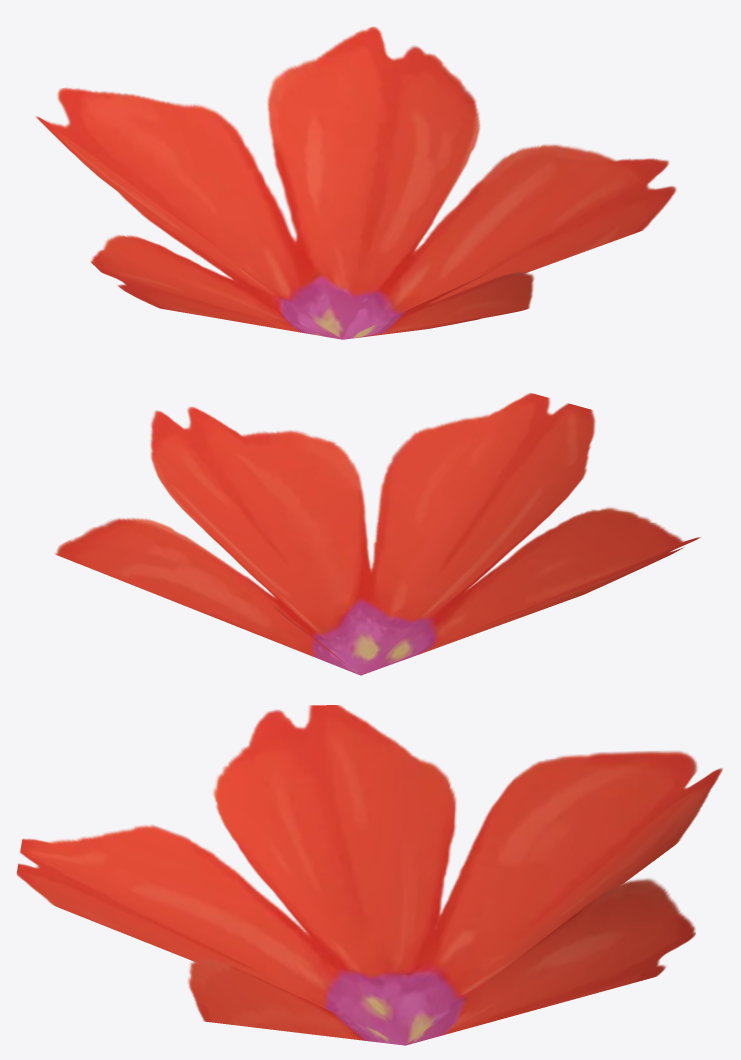
File: flower-petal-eve0j49ux9-transformed.glb
3 views of the same model, one above another, from view 1: azimuth 30°, elevation 25°; view 2: azimuth 150°, elevation 25°; view 3: azimuth 270°, elevation 25° (orthographic). The views are drawn at different scales.
Visible parts, largest first — view 1: Petal_3; view 2: Petal_3; view 3: Petal_3.
Boxes of the visible parts, x1,y1,x2,y2 form: Petal_3: [36, 26, 676, 339]; Petal_3: [55, 393, 700, 675]; Petal_3: [16, 705, 722, 1045].
Size of the model in its own units: 0.6195 by 0.1895 by 0.6064.
1 material, 1 textured.
